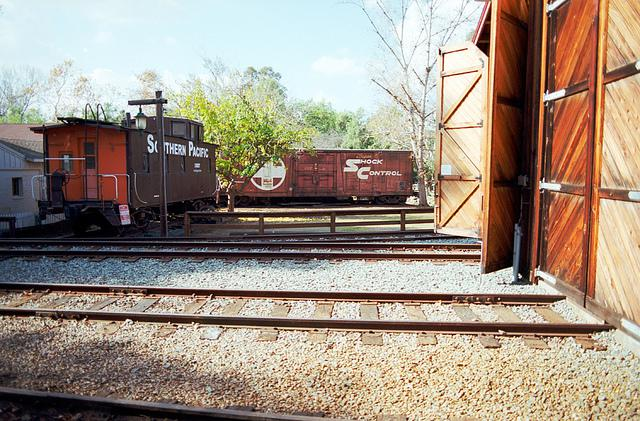Train: (29, 91, 222, 239), (234, 148, 415, 208)
